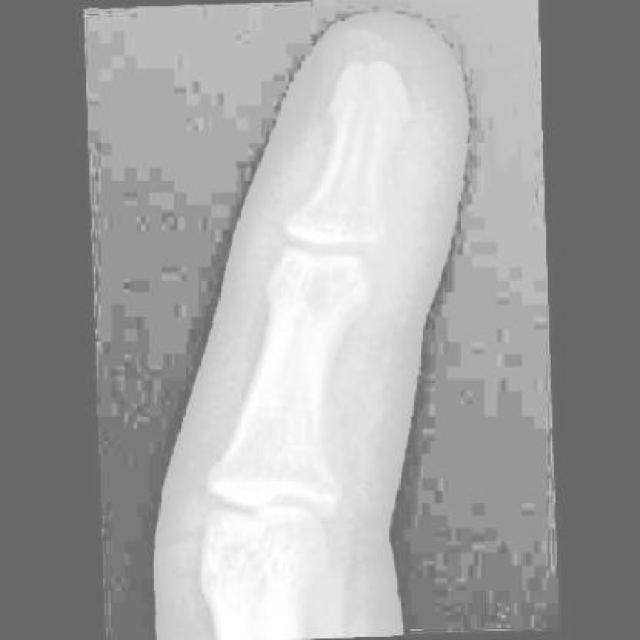Fracture: (285, 51, 422, 247)
